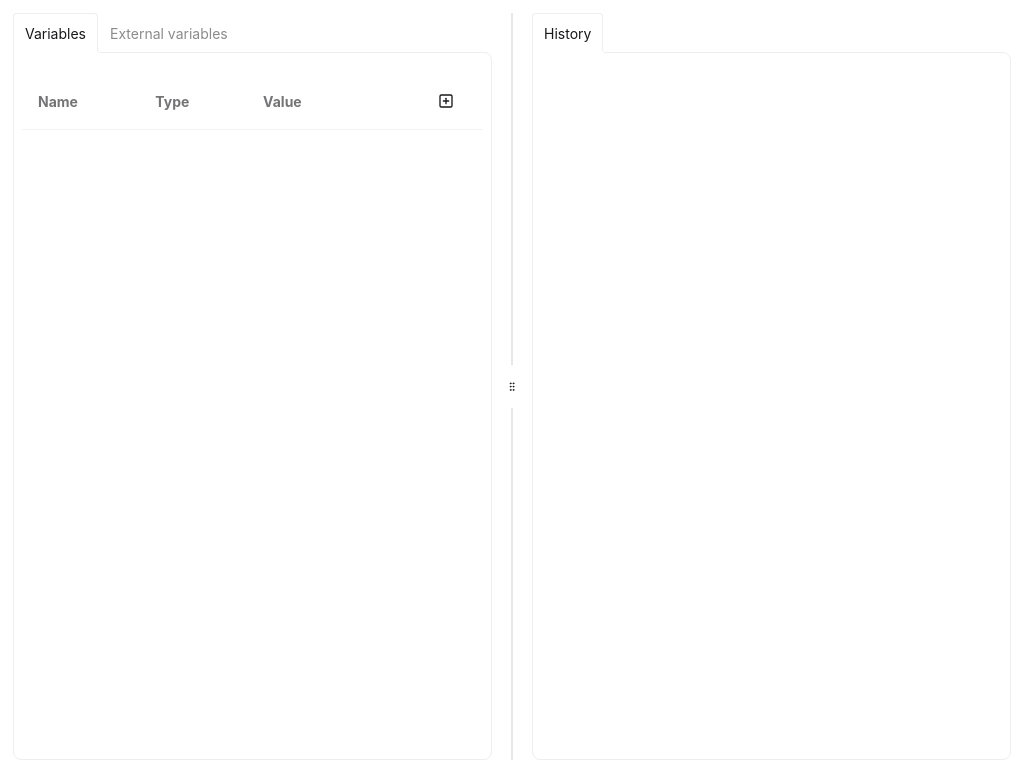
Test case: DebugPanel › Variables › cancels new variable creation when clicking the cancel button
Click the button titled "Add variable": (446, 101) [425, 85, 467, 117]
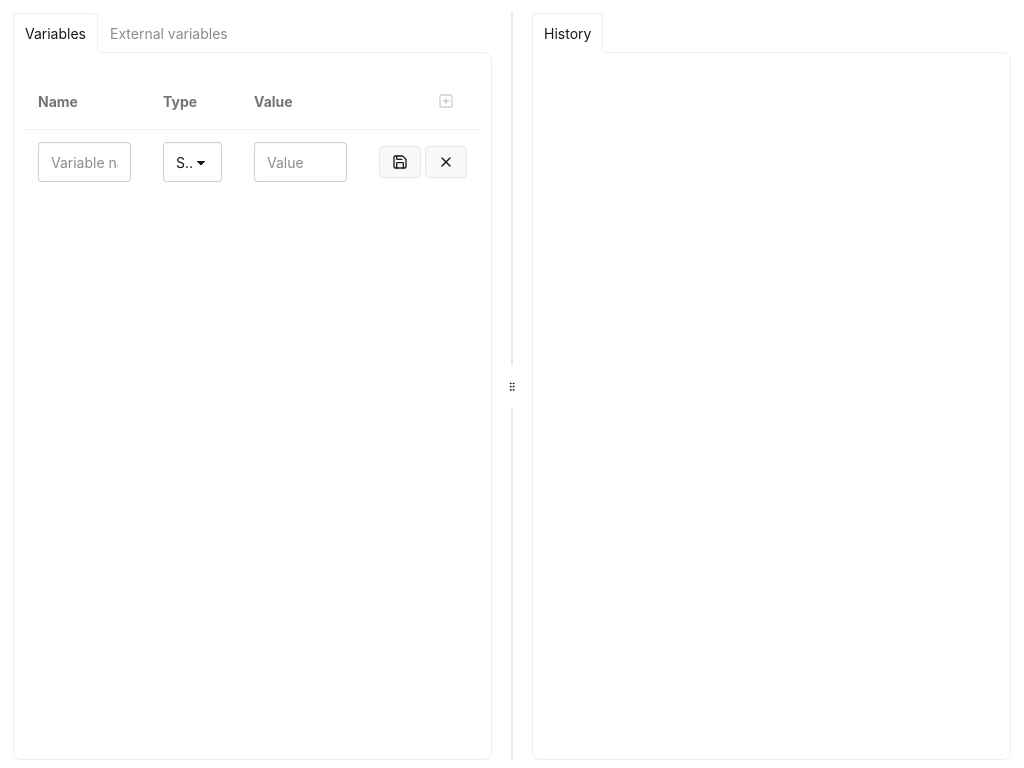
Check: the button titled "Add variable" is disabled, box [425, 85, 467, 117]
In the field named "Variable value": (300, 162) [254, 142, 347, 182], type "new value"
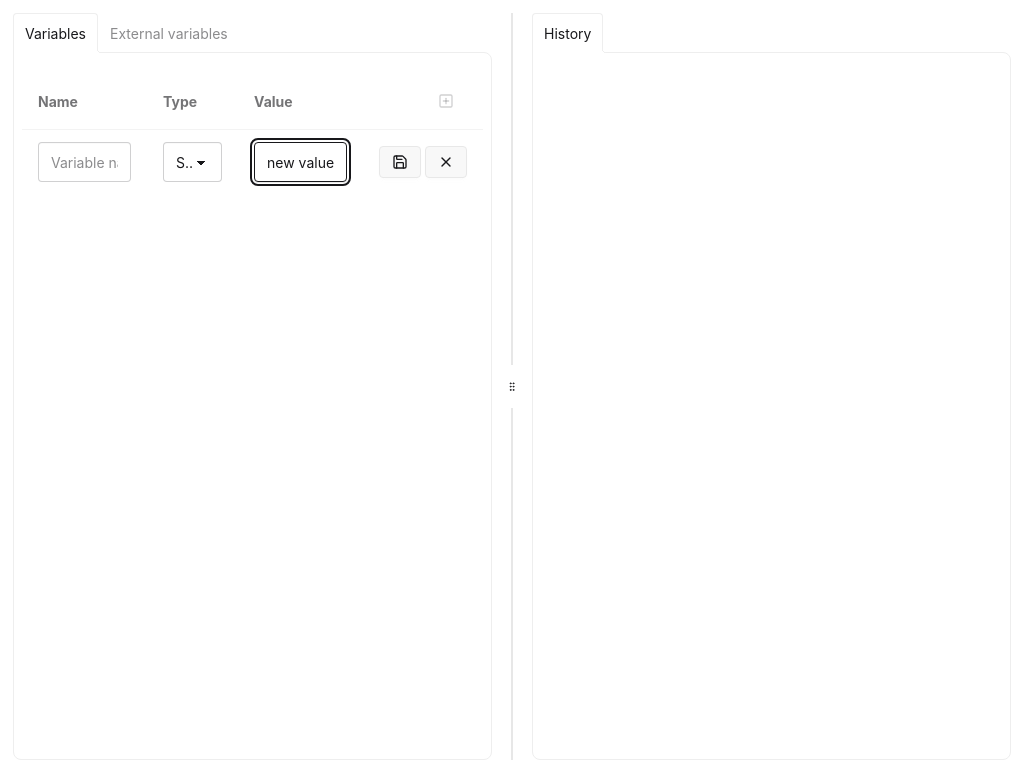
Click the button named "Cancel changes": (446, 162) [425, 146, 467, 178]
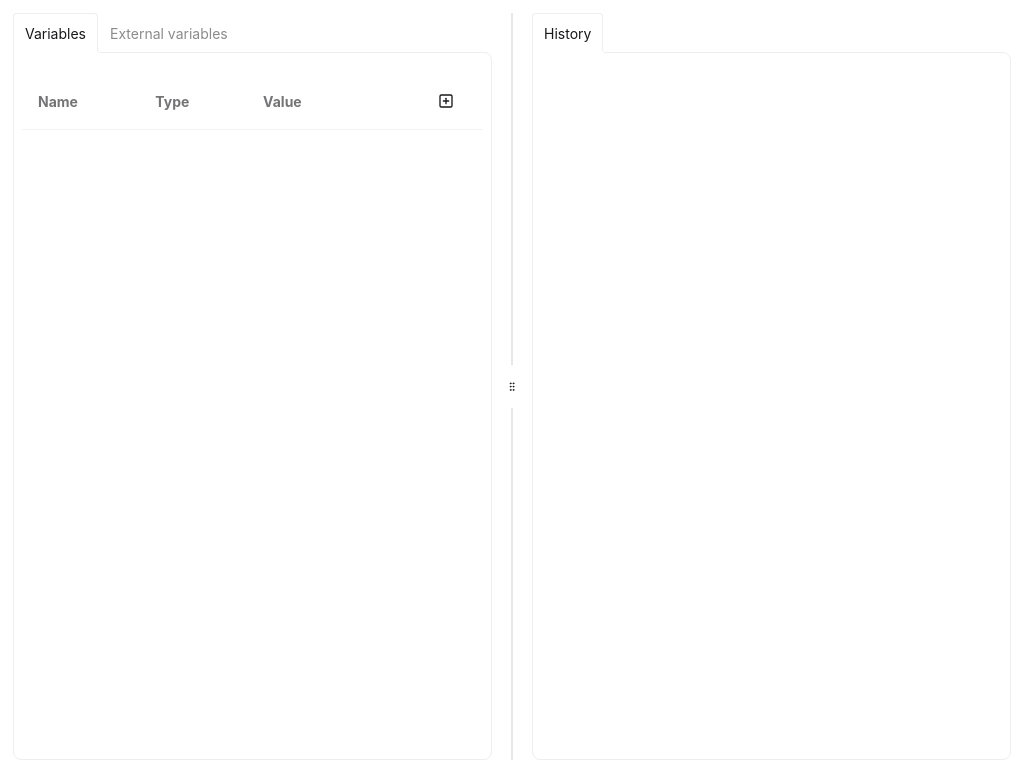
Check: the button titled "Add variable" is enabled, box [425, 85, 467, 117]
